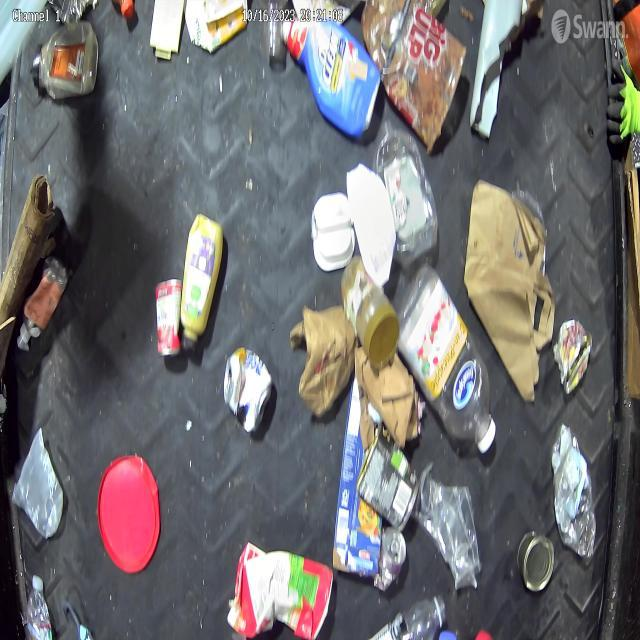can: (356, 421, 420, 534), (224, 346, 274, 434), (552, 318, 594, 394), (516, 529, 556, 592), (156, 276, 183, 358), (374, 526, 406, 592)
non_white_jug: (281, 17, 383, 139)
plastic_bottle: (395, 262, 497, 454), (26, 572, 53, 640)
